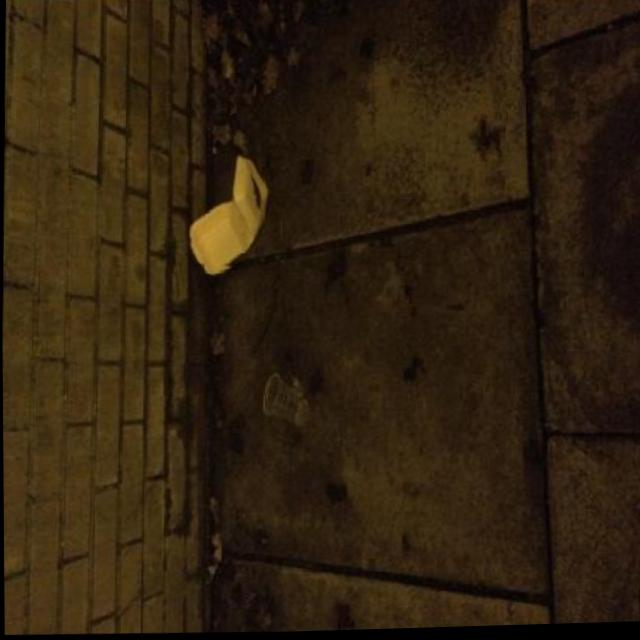foam: (186, 151, 271, 275)
plastic: (261, 369, 310, 427)
